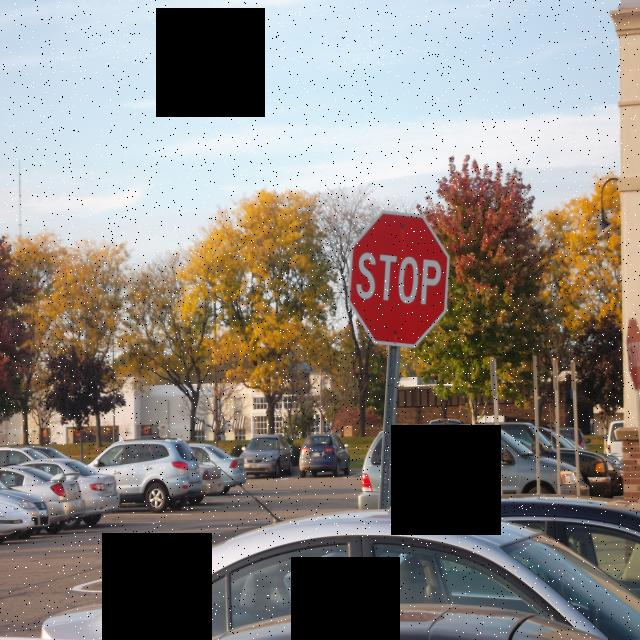stop: (347, 210, 449, 350)
